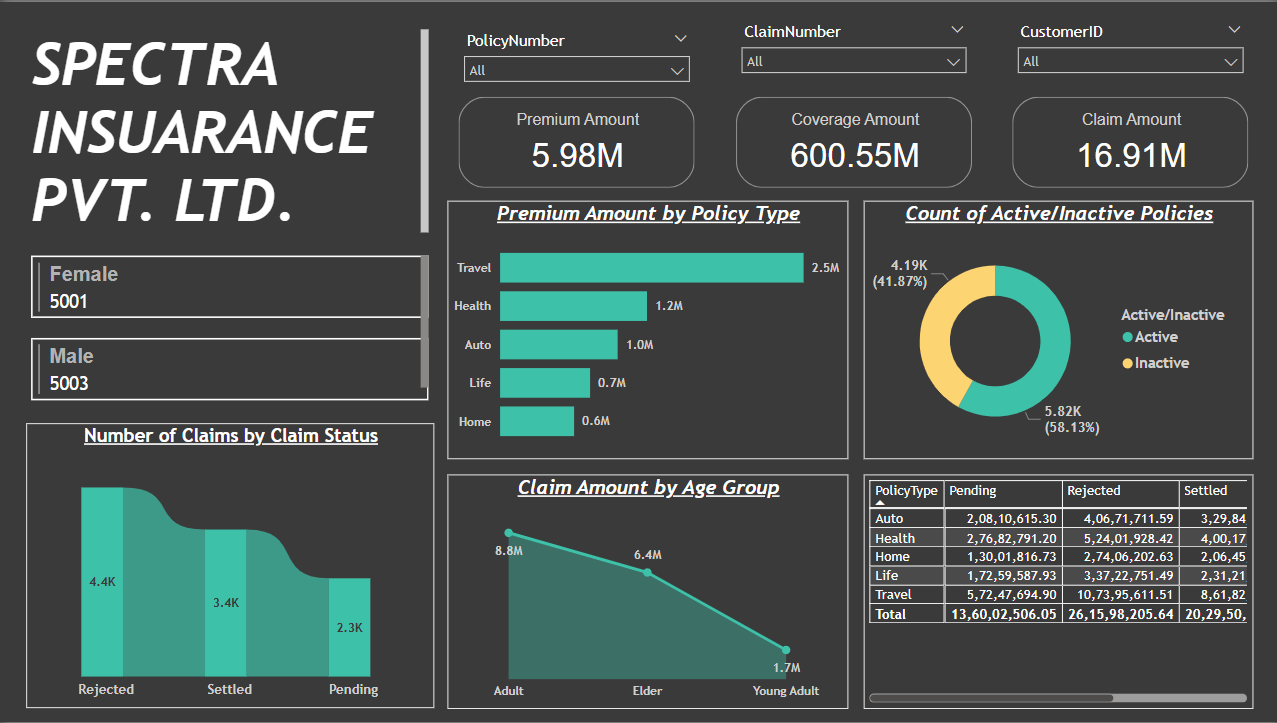

The dashboard page shown, as its layout file describes it:
{"tool":"powerbi","page":{"name":"Page 1","canvas":[1280,720],"ordinal":0},"visuals":[{"type":"slicer","fields":{"Values":["InsuranceData.PolicyNumber"]},"box":[453.4,23.4,246.1,74.8],"z":0},{"type":"slicer","fields":{"Values":["InsuranceData.ClaimNumber"]},"box":[730.9,15,244.9,74.8],"z":1000},{"type":"slicer","fields":{"Values":["InsuranceData.CustomerID"]},"box":[1007.1,15,246.1,74.8],"z":2000},{"type":"textbox","box":[25.8,22.9,407.8,213.5],"z":3000},{"type":"cardVisual","fields":{"Data":["Sum(InsuranceData.PremiumAmount)"]},"box":[453.4,89.8,246.1,101.3],"z":4000},{"type":"cardVisual","fields":{"Data":["Sum(InsuranceData.CoverageAmount)"]},"box":[730.9,89.8,246.1,101.3],"z":5000},{"type":"cardVisual","fields":{"Data":["Sum(InsuranceData.ClaimAmount)"]},"box":[1007.1,89.8,246.1,101.3],"z":6000},{"type":"multiRowCard","fields":{"Values":["InsuranceData.Gender","CountNonNull(InsuranceData.Gender)"]},"box":[26.3,249,407.8,158],"z":7000},{"type":"ribbonChart","title":"Number of Claims by Claim Status","fields":{"Category":["InsuranceData.ClaimStatus"],"Y":["CountNonNull(InsuranceData.ClaimStatus)"]},"box":[26.3,421.5,407.8,284.7],"z":8000},{"type":"barChart","title":"Premium Amount by Policy Type","fields":{"Category":["InsuranceData.PolicyType"],"Y":["Sum(InsuranceData.PremiumAmount)"]},"box":[447.3,198.3,400.5,258.2],"z":9000},{"type":"lineChart","title":"Claim Amount by Age Group","fields":{"Category":["InsuranceData.Age Group"],"Y":["Sum(InsuranceData.ClaimAmount)"]},"box":[447.3,472.2,400.5,234],"z":10000},{"type":"donutChart","title":"Count of Active/Inactive Policies","fields":{"Category":["InsuranceData.Active/Inactive"],"Y":["CountNonNull(InsuranceData.Active/Inactive)"]},"box":[863.6,198.3,389.7,258.2],"z":11000},{"type":"pivotTable","fields":{"Rows":["InsuranceData.PolicyType"],"Columns":["InsuranceData.ClaimStatus"],"Values":["Sum(InsuranceData.CoverageAmount)"]},"box":[863.6,472.2,389.7,234],"z":12000}]}

Visuals, with their boxes in screenshot pixels (x1, y1, x2, y2), scaled from the page's 1280x720 canvas onto the 1277x723 screenshot:
slicer - InsuranceData.PolicyNumber: 452, 23, 698, 99
slicer - InsuranceData.ClaimNumber: 729, 15, 974, 90
slicer - InsuranceData.CustomerID: 1005, 15, 1250, 90
textbox: 26, 23, 433, 237
cardVisual - Sum(InsuranceData.PremiumAmount): 452, 90, 698, 192
cardVisual - Sum(InsuranceData.CoverageAmount): 729, 90, 975, 192
cardVisual - Sum(InsuranceData.ClaimAmount): 1005, 90, 1250, 192
multiRowCard - InsuranceData.Gender x CountNonNull(InsuranceData.Gender): 26, 250, 433, 409
"Number of Claims by Claim Status" ribbonChart: 26, 423, 433, 709
"Premium Amount by Policy Type" barChart: 446, 199, 846, 458
"Claim Amount by Age Group" lineChart: 446, 474, 846, 709
"Count of Active/Inactive Policies" donutChart: 862, 199, 1250, 458
pivotTable - InsuranceData.PolicyType x InsuranceData.ClaimStatus: 862, 474, 1250, 709
